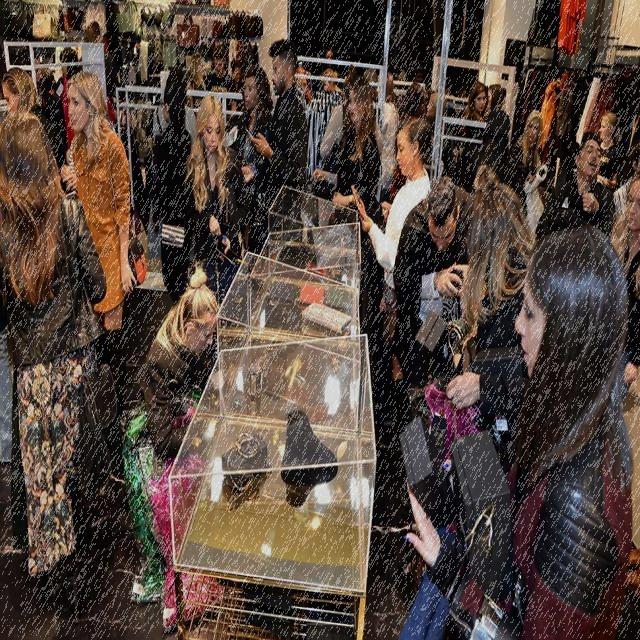pessoa: (400, 221, 636, 639), (0, 108, 122, 611), (64, 72, 140, 468), (446, 166, 544, 437), (358, 116, 432, 381), (393, 177, 482, 396), (580, 168, 640, 466), (243, 38, 310, 264), (182, 94, 252, 308), (142, 268, 219, 461), (150, 65, 205, 299), (311, 74, 385, 228), (150, 82, 196, 306), (231, 63, 280, 256), (536, 130, 616, 235), (1, 65, 59, 159), (0, 322, 21, 570), (388, 82, 427, 202), (508, 108, 544, 216), (37, 66, 70, 172), (481, 82, 513, 186), (378, 70, 399, 204), (460, 81, 490, 174), (56, 47, 84, 145), (86, 20, 120, 97), (204, 42, 238, 116), (425, 92, 453, 176), (594, 110, 622, 192), (612, 145, 640, 219), (119, 32, 143, 84), (227, 60, 244, 118), (184, 68, 200, 120), (294, 66, 314, 106), (396, 57, 426, 82), (319, 68, 344, 95), (386, 59, 398, 115), (320, 67, 344, 94), (31, 55, 43, 106), (362, 50, 381, 81), (422, 84, 436, 111), (324, 48, 336, 70)
